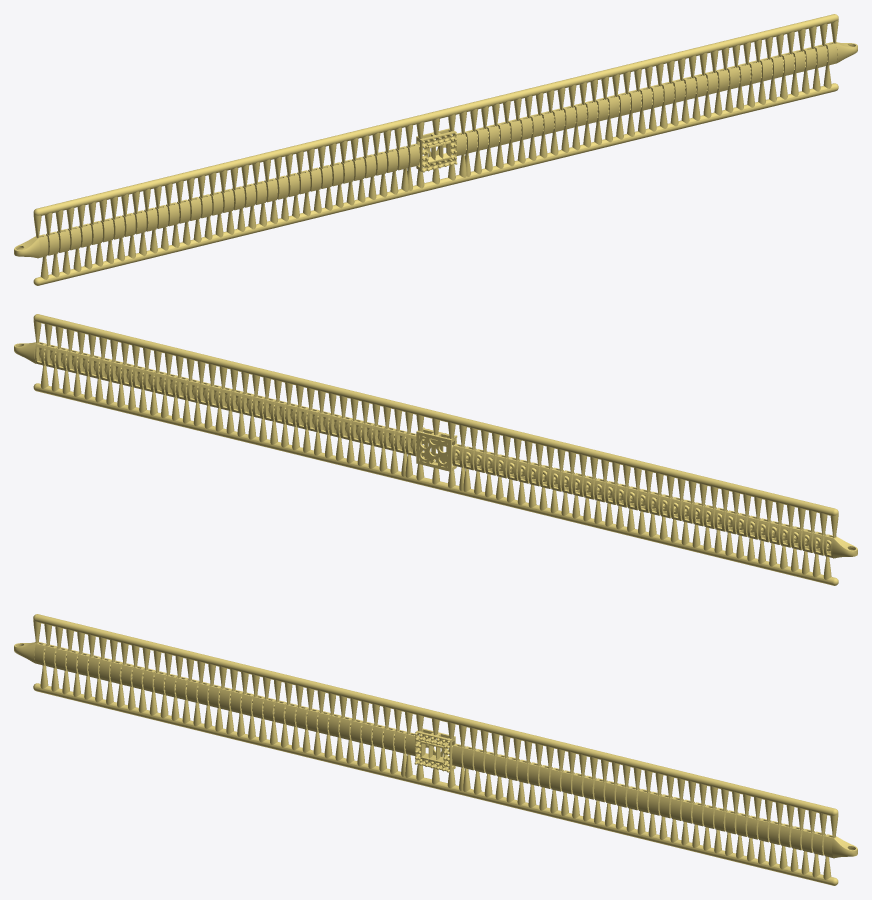
Rendered from yzn5-97_2.glb.
3 views of the same model, one above another, from view 1: azimuth 30°, elevation 25°; view 2: azimuth 150°, elevation 25°; view 3: azimuth 330°, elevation 25° (orthographic).
Visible parts, largest first — view 1: Renderer Node; view 2: Renderer Node; view 3: Renderer Node.
Part boxes in pixels (left/top/right/bottom): Renderer Node: left=14, top=14, right=857, bottom=285; Renderer Node: left=14, top=314, right=857, bottom=585; Renderer Node: left=14, top=614, right=857, bottom=885.
Bounding box in the file's own units: 177 × 15.41 × 2.96.
